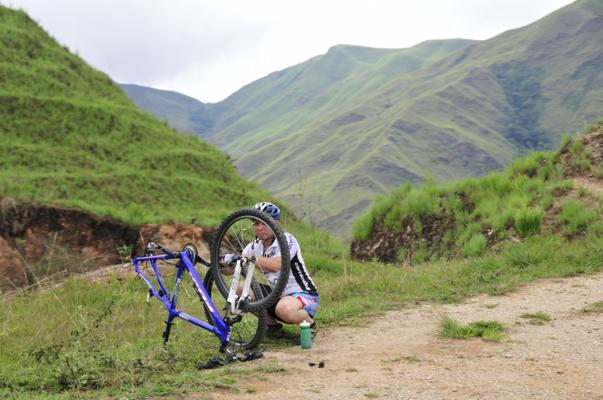person: (218, 202, 320, 341)
